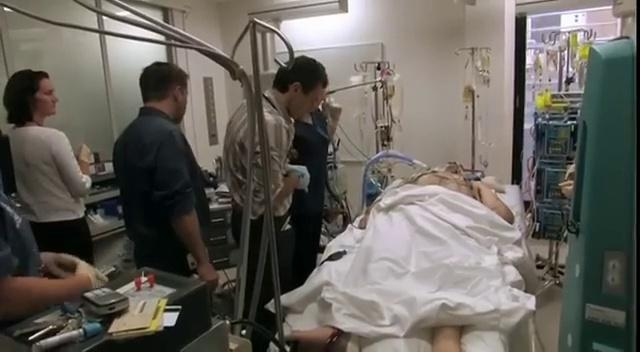doctor: (220, 54, 329, 351)
others: (111, 60, 219, 292), (1, 67, 96, 267)
patient: (264, 162, 538, 351)
